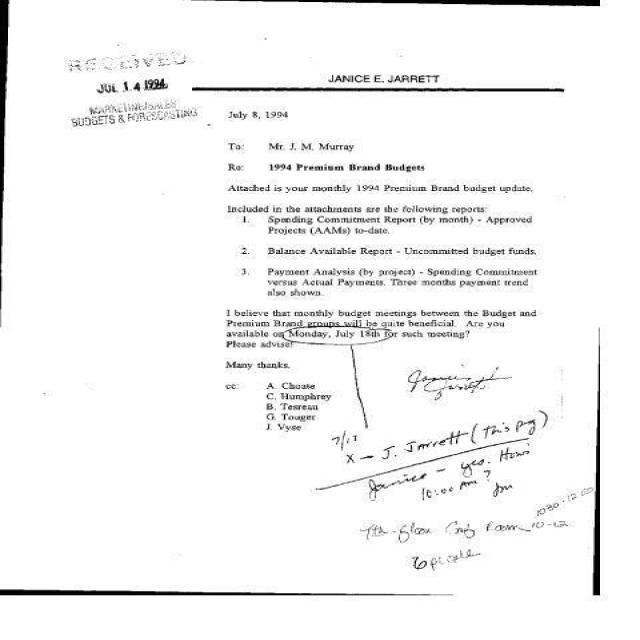signature: (405, 362, 512, 401)
